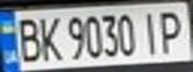0: (115, 10, 139, 57), (81, 11, 103, 60)
3: (100, 10, 121, 58)
9: (63, 11, 87, 61)
B: (12, 14, 45, 63)
I: (136, 7, 163, 56)
K: (33, 11, 63, 63)
P: (154, 7, 187, 55)
